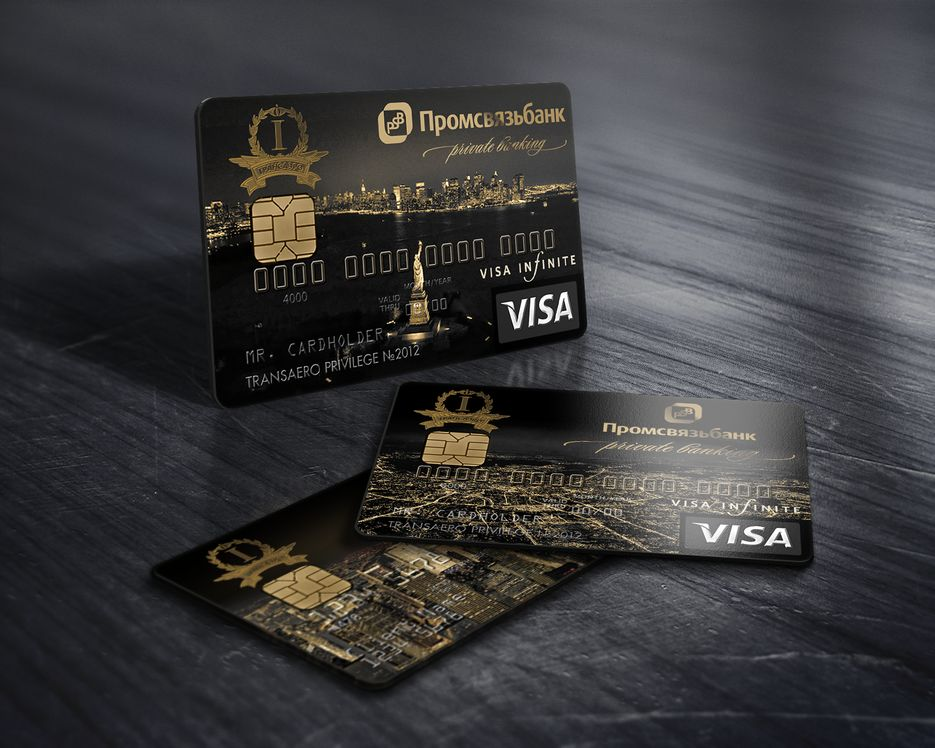card: (198, 81, 586, 403), (149, 470, 591, 681), (356, 379, 814, 566)
